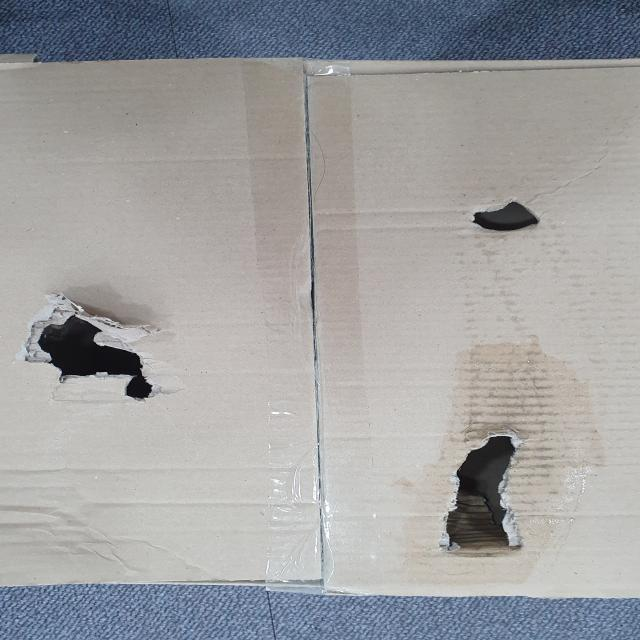hole: (430, 412, 551, 574), (32, 308, 180, 404), (465, 193, 560, 252)
